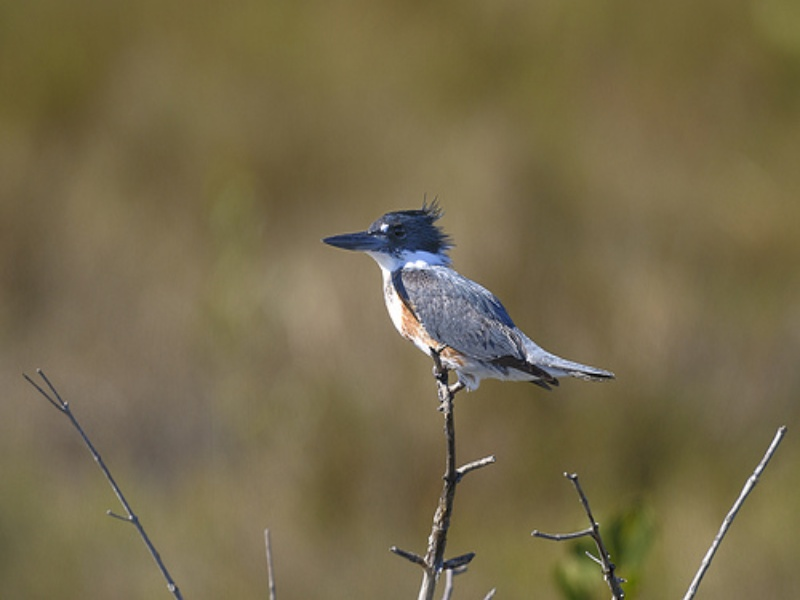kingfisher: (318, 195, 622, 407)
